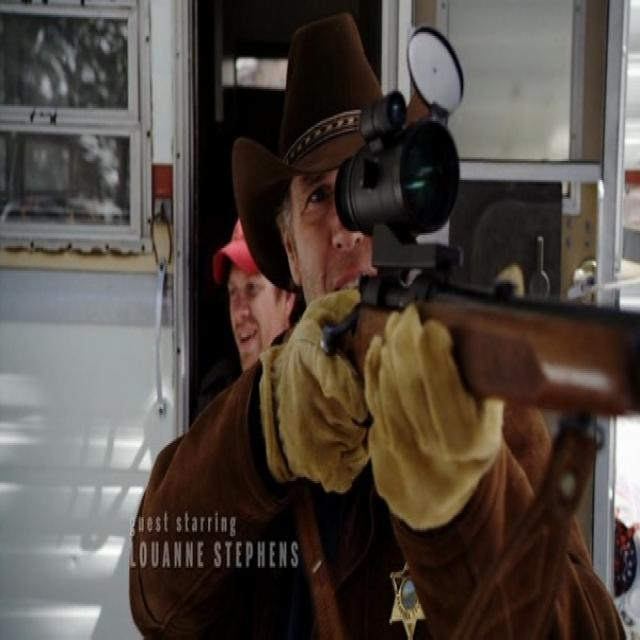rifle: (311, 23, 640, 439)
